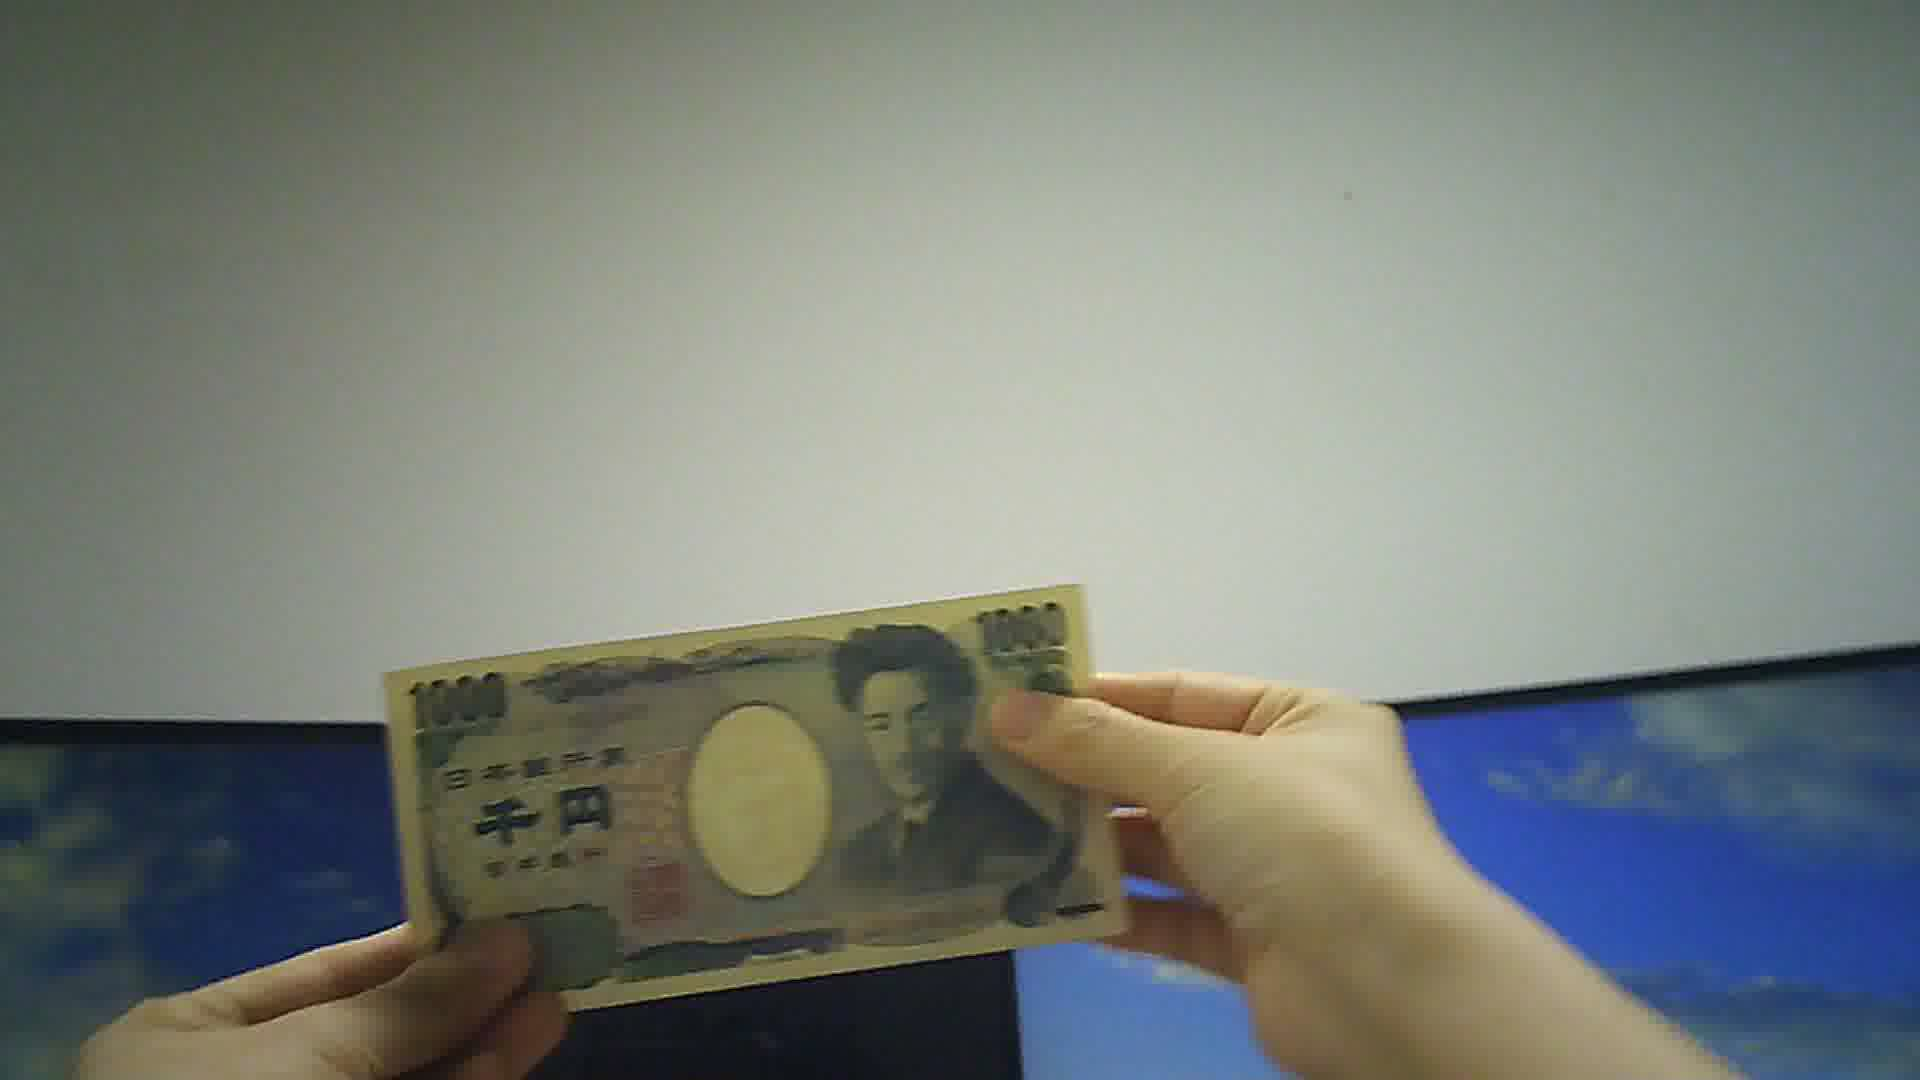1,000 Yen: (368, 591, 1149, 1002)
